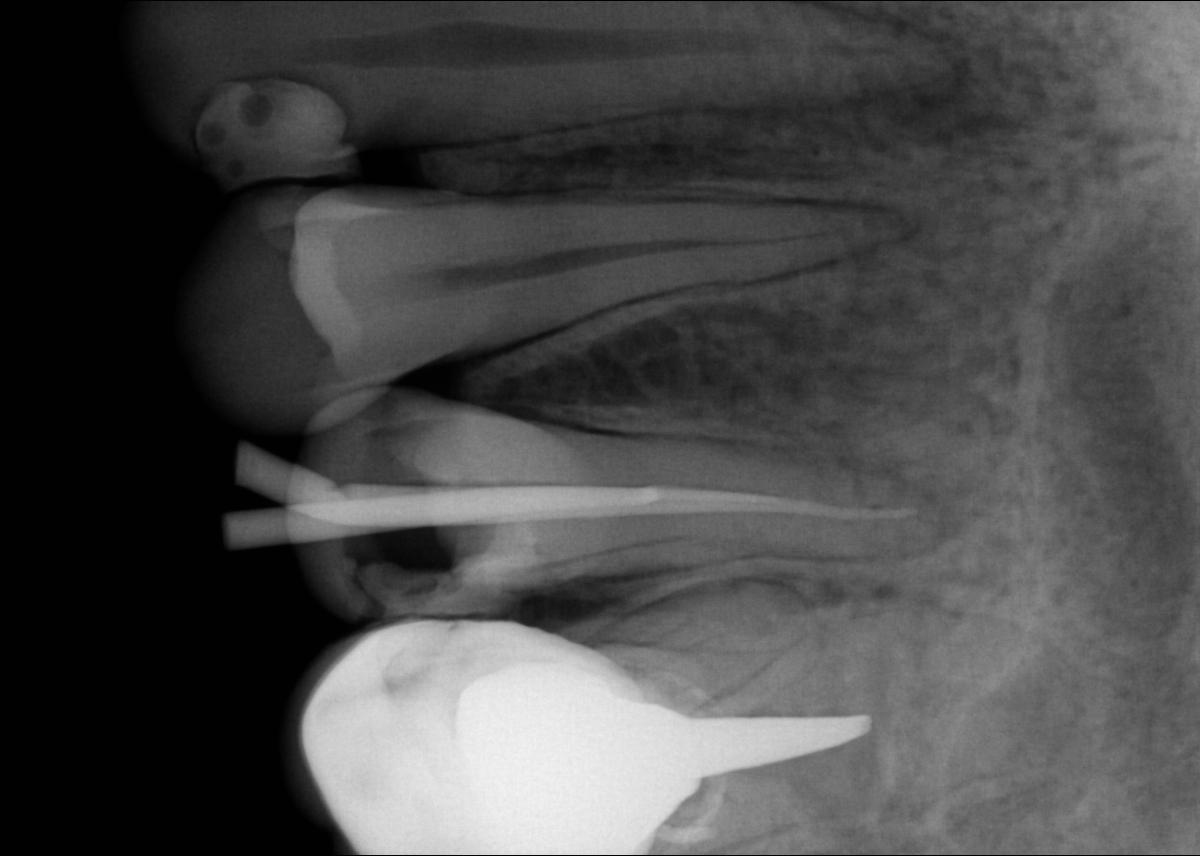Furcation Involvement: (879, 34, 1046, 145)
